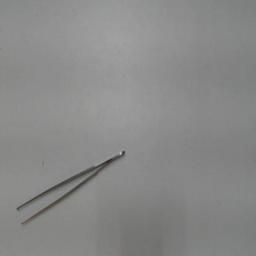Gillies Toothed Dissector: (10, 142, 130, 234)
